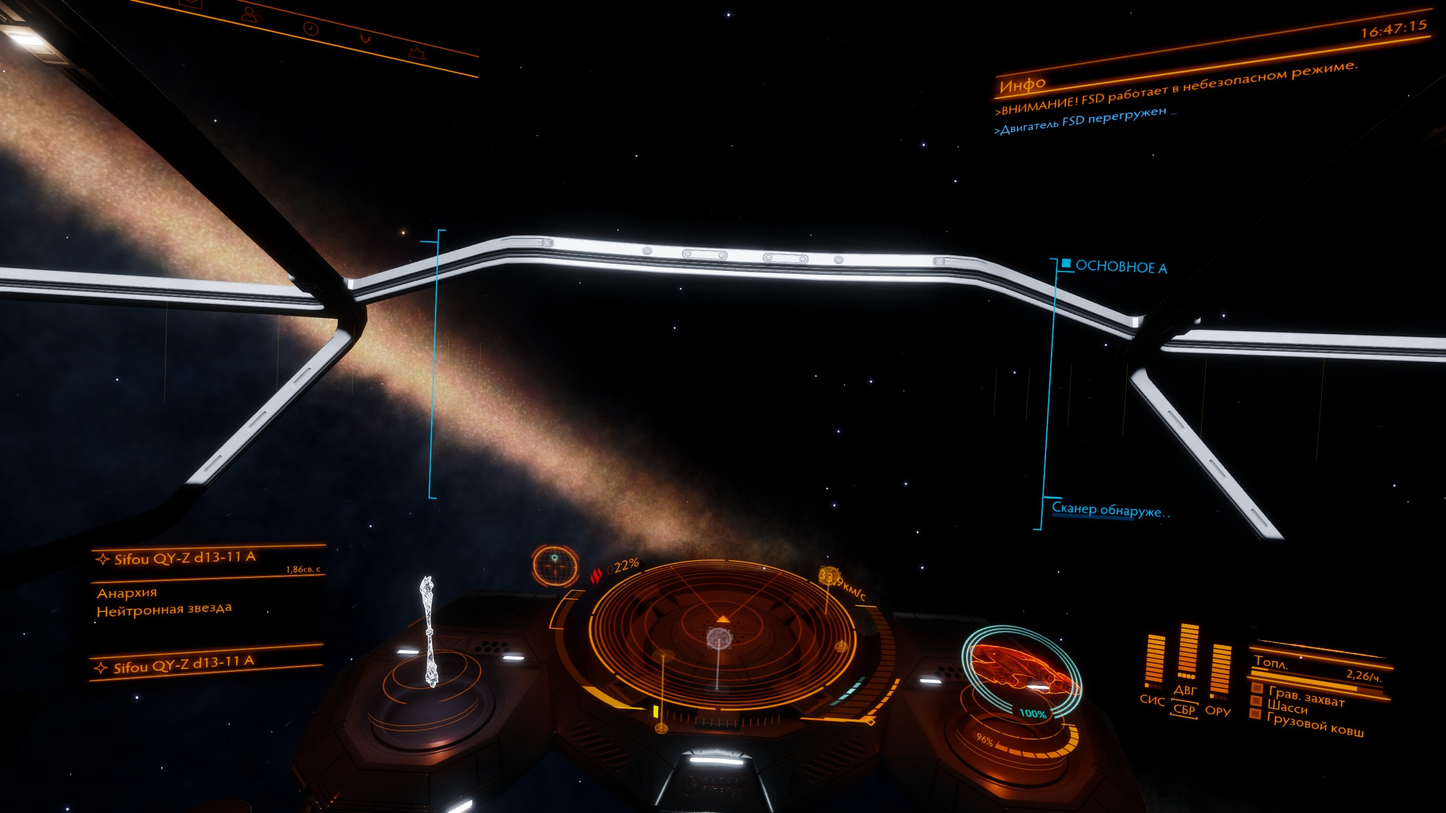jetcone: (1018, 259, 1103, 530), (955, 259, 1016, 277)
